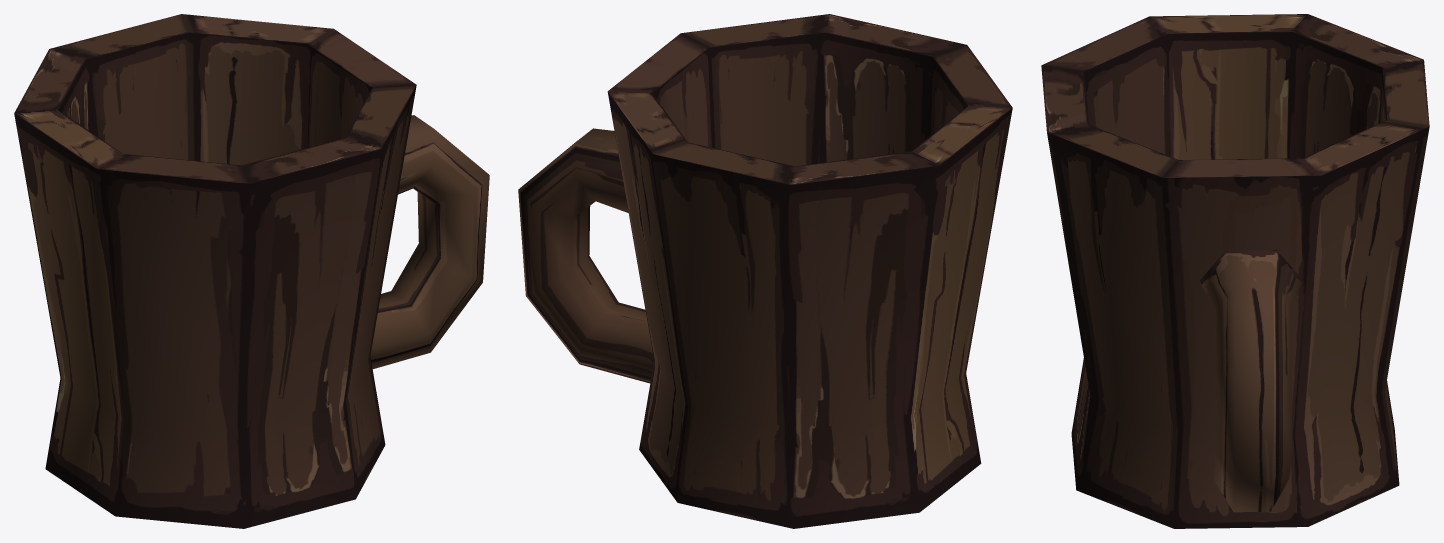
Rendered from SM_PROP_cup_dungeon_02.fbx.
3 renders of one model, left to right at view 1: azimuth 30°, elevation 25°; view 2: azimuth 150°, elevation 25°; view 3: azimuth 270°, elevation 25°, orthographic.
Visible parts, largest first — view 1: SM_PROP_cup_dungeon_02; view 2: SM_PROP_cup_dungeon_02; view 3: SM_PROP_cup_dungeon_02.
Part boxes in pixels (left/top/right/bottom): SM_PROP_cup_dungeon_02: left=14, top=14, right=489, bottom=528; SM_PROP_cup_dungeon_02: left=518, top=14, right=1012, bottom=528; SM_PROP_cup_dungeon_02: left=1041, top=14, right=1429, bottom=528.
Size of the model in its own units: 15.67 by 12.18 by 11.79.
